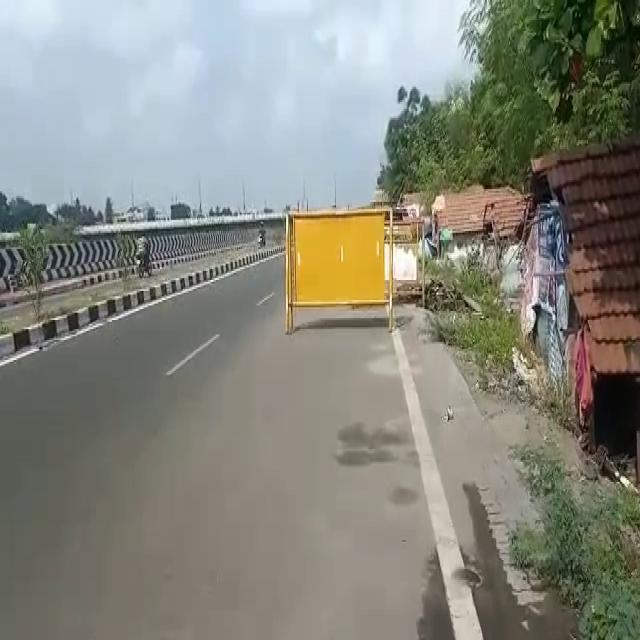fallen_object: (272, 205, 416, 330)
